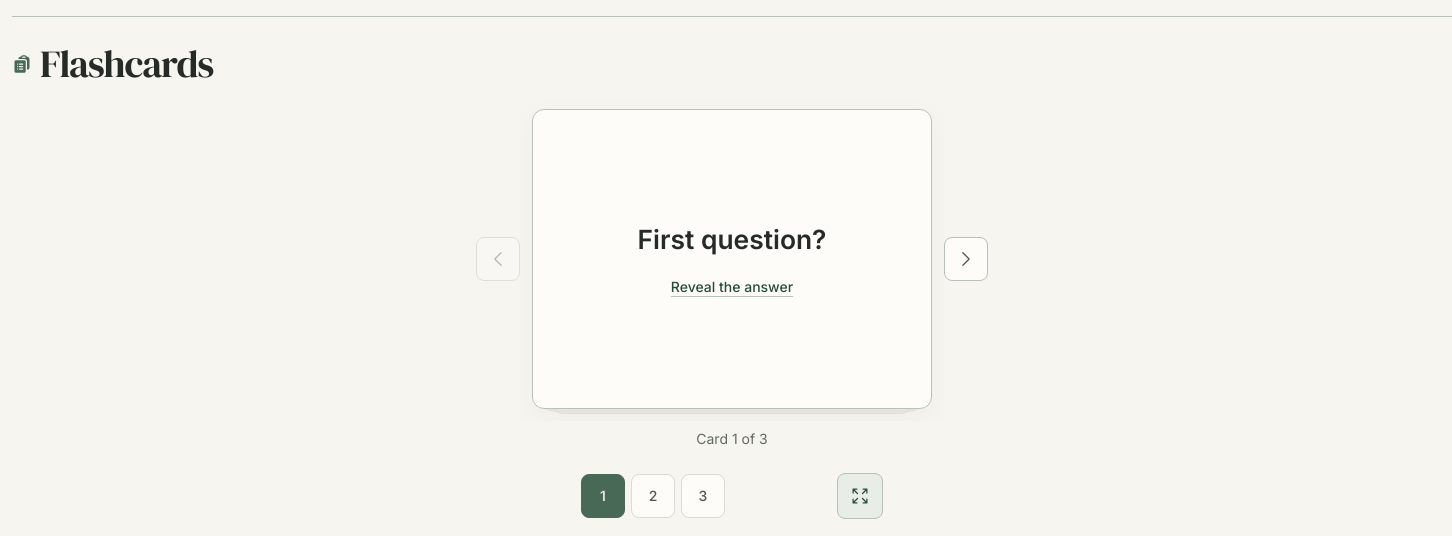
Test case: reduced motion presents the answer and next question without any motion layers
The image size is (1452, 536).
Later steps or results of the test are not shown.
Click the button with aria-label "reveal answer": (732, 259) [532,109,932,409]
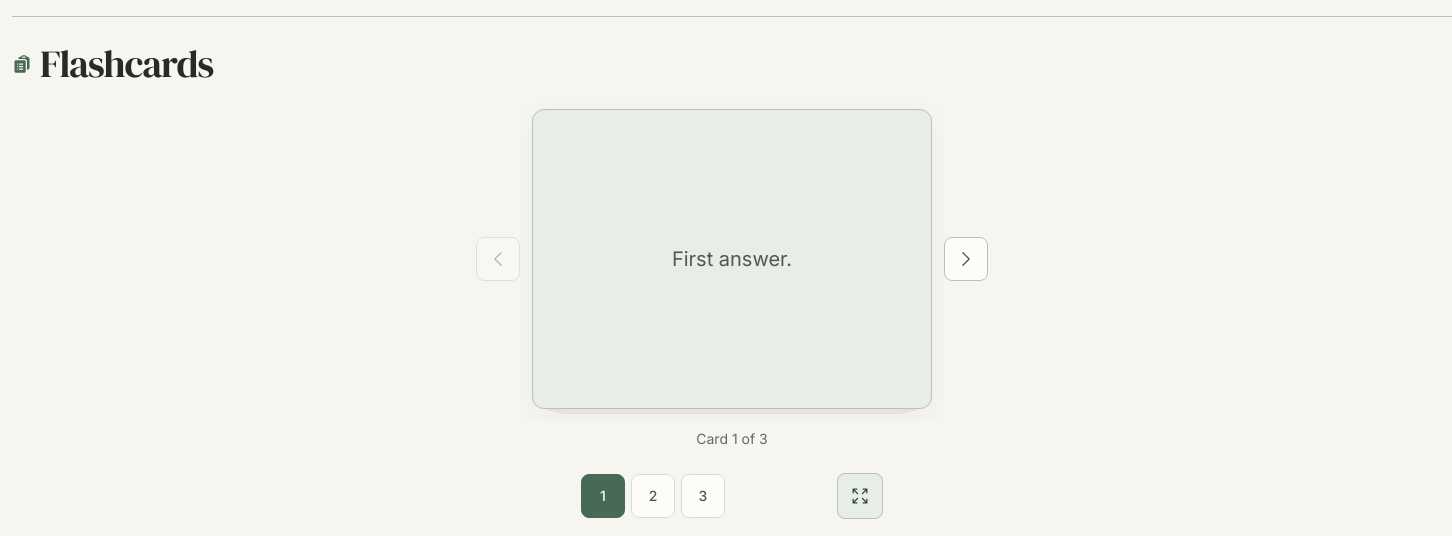
Expected: the text "First answer." is shown, [672,247,792,271]
Expected: the button "First question?" is gone
Click the button named "Next card": (966, 259) [944,237,988,281]
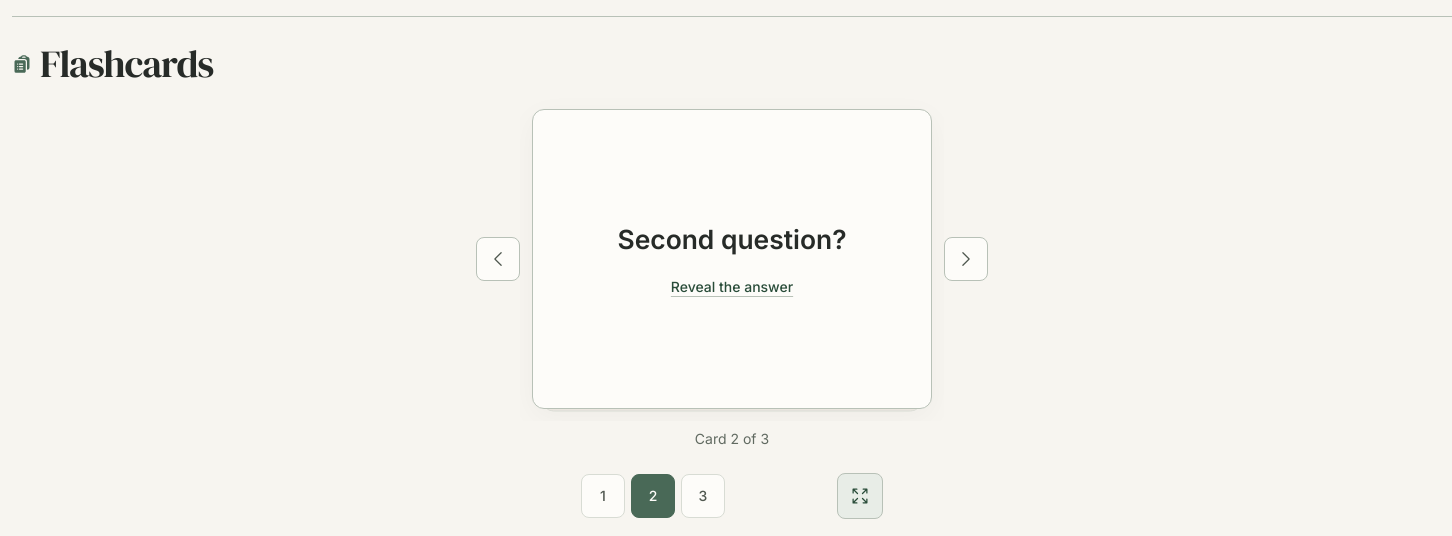
Expected: the text "Second question?" is shown, [618,223,846,255]
